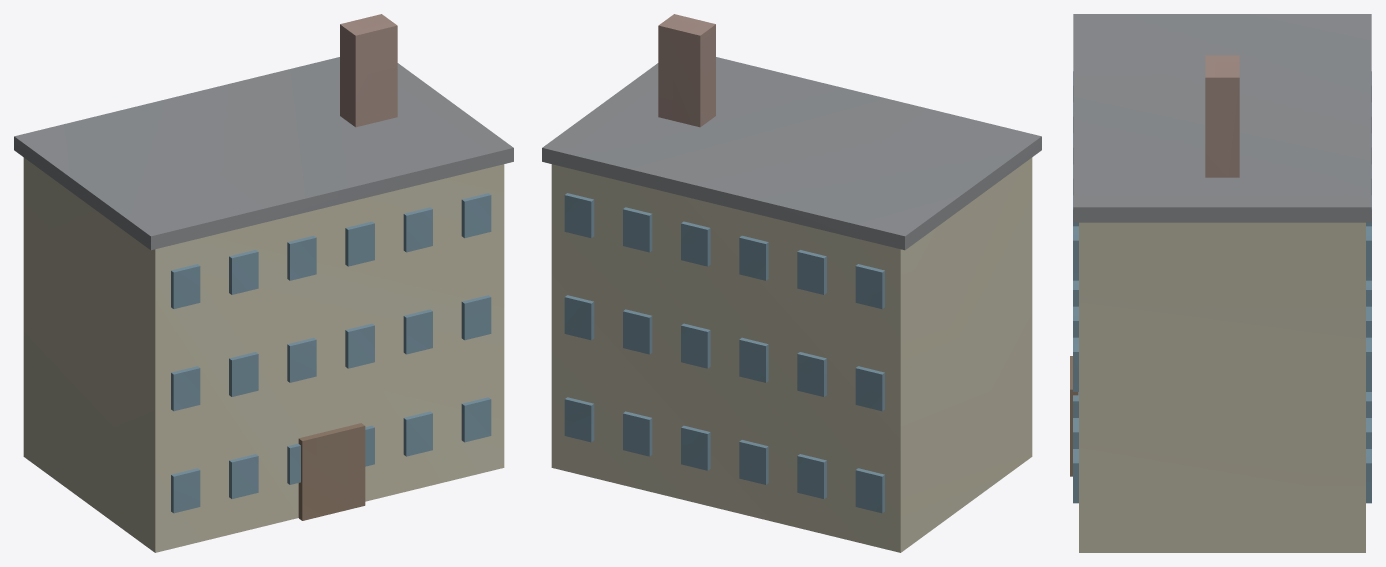
File: factory-00.glb
The picture shows the model from 3 angles, left to right: view 1: azimuth 30°, elevation 25°; view 2: azimuth 150°, elevation 25°; view 3: azimuth 270°, elevation 25°; orthographic projection. The views are drawn at different scales.
Parts seen in each view (by area): view 1: world; view 2: world; view 3: world.
Boxes of the visible parts, x1,y1,x2,y2 form: world: (14,14,513,552); world: (542,14,1041,552); world: (1070,14,1371,552).
Size of the model in its own units: 1.9 by 2.06 by 1.26.
